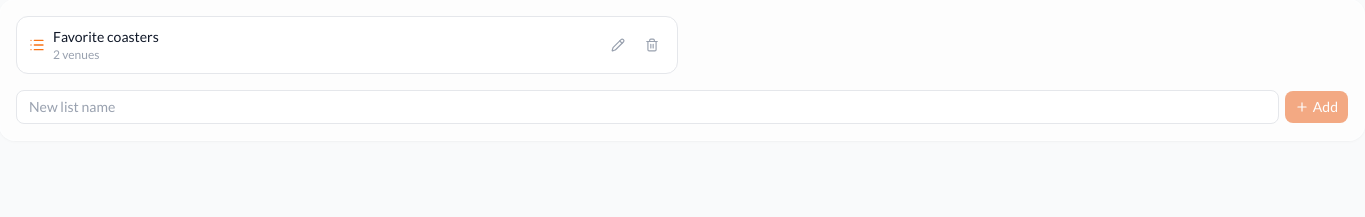
VenueListsSection › opens a list detail with ranked rows and a back button
Click the button "Favorite coasters 2 venues".
click(106, 36)  # box [53, 27, 597, 63]
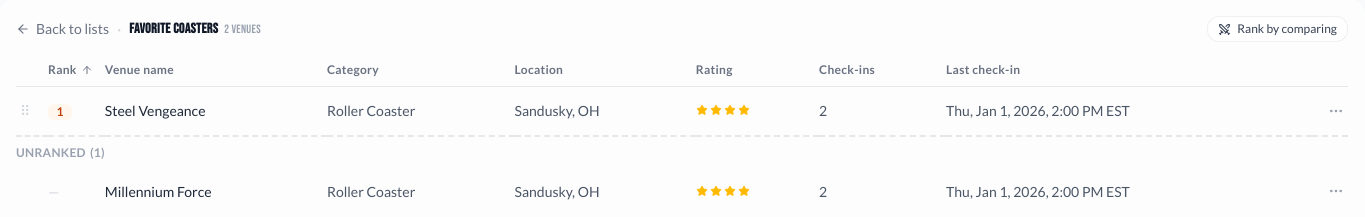
Result: the link "Steel Vengeance" is shown at [105, 102, 206, 119]
Result: the link "Millennium Force" is shown at [105, 182, 212, 200]
Result: the column heading "Unranked" is shown at [16, 145, 86, 160]
Click the button "Back to lists".
click(62, 29)  # box [16, 19, 109, 39]
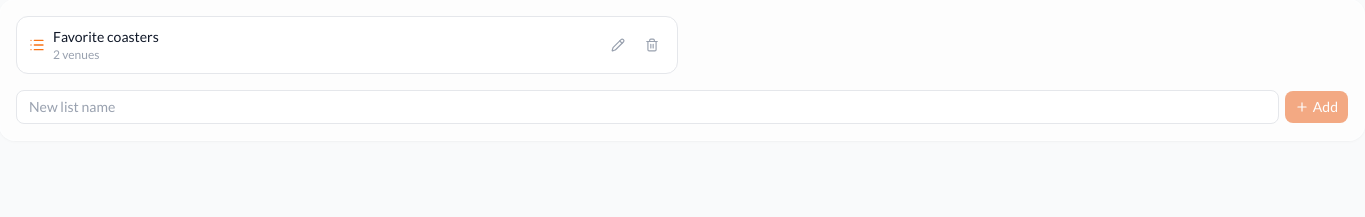
Result: the link "Millennium Force" is gone
